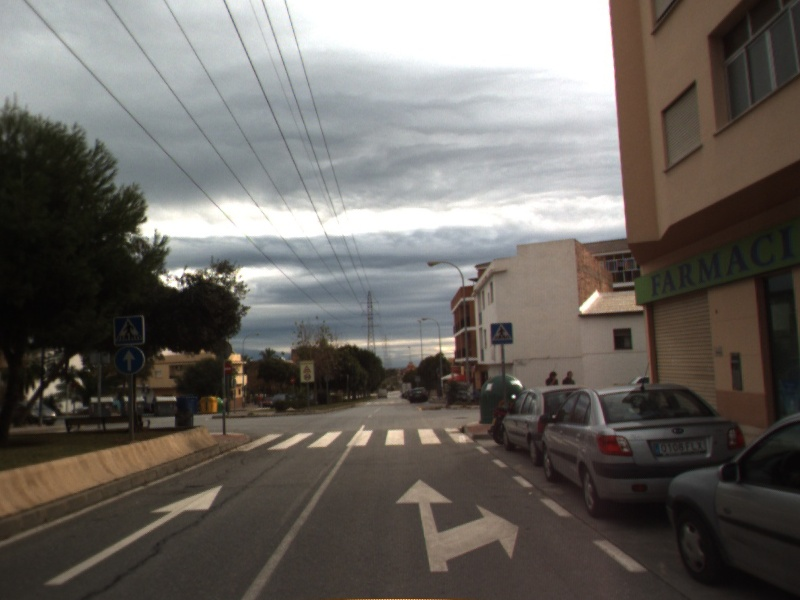STRAIGHT: (40, 484, 224, 587)
STRAIGHT_RIGHT: (393, 477, 521, 574)
